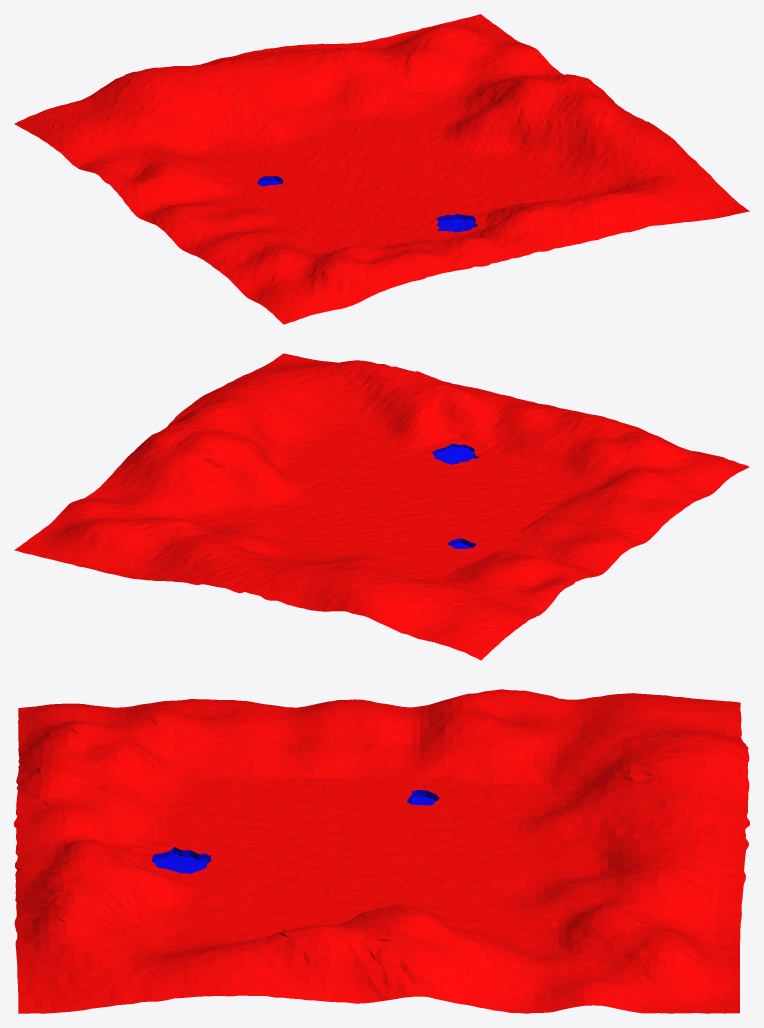
Rendered from Ground.fbx.
The picture shows the model from 3 angles, top to bottom: view 1: azimuth 30°, elevation 25°; view 2: azimuth 150°, elevation 25°; view 3: azimuth 270°, elevation 25°; orthographic projection. The views are drawn at different scales.
Visible parts, largest first — view 1: Ground; view 2: Ground; view 3: Ground.
Boxes of the visible parts, <box> form: Ground: <box>14,14,749,324</box>; Ground: <box>14,353,749,660</box>; Ground: <box>14,689,749,1013</box>.
Size of the model in its own units: 10106 by 938 by 10198.
